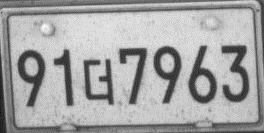1: (48, 48, 81, 108)
3: (219, 43, 250, 103)
6: (186, 43, 218, 104)
7: (118, 47, 149, 105)
9: (16, 49, 47, 109), (153, 45, 183, 104)
더: (82, 58, 116, 106)
